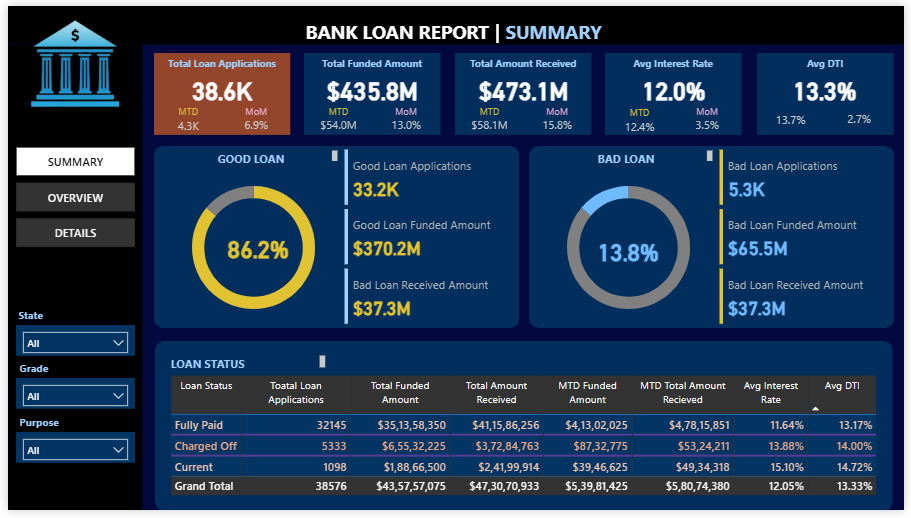

The page's visual inventory and layout, read from the dashboard file:
{"tool":"powerbi","page":{"name":"SUMMARY","canvas":[1280,720],"ordinal":0},"visuals":[{"type":"shape","box":[0,0,1279.7,55.2],"z":0},{"type":"shape","box":[208.6,67,194.7,117.3],"z":0,"group":"g2"},{"type":"shape","box":[423.7,67,195.3,117.3],"z":0,"group":"g3"},{"type":"shape","box":[639.2,67,195.3,117.3],"z":0,"group":"g4"},{"type":"shape","box":[853.6,67,195.3,117.3],"z":0,"group":"g5"},{"type":"shape","box":[1069,67,195.3,117.3],"z":0,"group":"g6"},{"type":"shape","box":[744.2,199.6,521.8,260],"z":0,"group":"g7"},{"type":"shape","box":[0,55.2,192,664.8],"z":1000},{"type":"card","fields":{"Values":["bank_loan_data.Total Amount Received"]},"box":[638.5,95.6,195.7,47.1],"z":1000,"group":"g4"},{"type":"card","fields":{"Values":["bank_loan_data.Avg DTI"]},"box":[1068,95.6,196,47],"z":1000,"group":"g6"},{"type":"card","fields":{"Values":["bank_loan_data.Avg Interest Rate"]},"box":[853,95.8,196,47],"z":1000,"group":"g5"},{"type":"card","fields":{"Values":["bank_loan_data.Toatal Loan Applications"]},"box":[208.3,96,194.3,46.7],"z":1000,"group":"g2"},{"type":"card","fields":{"Values":["bank_loan_data.Total Funded Amount"]},"box":[423.4,96,195,46.7],"z":1000,"group":"g3"},{"type":"group","id":"g1","title":"Group 2","box":[761.5,199.6,503.3,260],"z":1000,"group":"g7"},{"type":"textbox","box":[208.6,67,194,32],"z":2000,"group":"g2"},{"type":"textbox","box":[423.7,67,194.7,32],"z":2000,"group":"g3"},{"type":"textbox","box":[639.2,67,194.7,32],"z":2000,"group":"g4"},{"type":"textbox","box":[853.6,67,194.7,32],"z":2000,"group":"g5"},{"type":"textbox","box":[1069,67,194.7,32],"z":2000,"group":"g6"},{"type":"shape","box":[209.1,200,522.2,260],"z":2000,"group":"g8"},{"type":"card","fields":{"Values":["bank_loan_data.Bad Loan %"]},"box":[819.8,325.4,131.7,48.3],"z":2000,"group":"g7"},{"type":"shape","box":[210,478,1054,242],"z":2000},{"type":"textbox","box":[420,12.9,438.6,54.3],"z":3000},{"type":"card","title":"MTD","fields":{"Values":["bank_loan_data.MTD Funded Amount"]},"box":[423,141.2,98.8,42.9],"z":3000,"group":"g3"},{"type":"card","title":"MTD","fields":{"Values":["bank_loan_data.MTD Total Amount Recieved"]},"box":[638.5,141.2,98.8,42.9],"z":3000,"group":"g4"},{"type":"card","title":"MTD","fields":{"Values":["bank_loan_data.MTD Loan Applications"]},"box":[208.3,141.7,98.2,42.4],"z":3000,"group":"g2"},{"type":"card","title":"MTD","fields":{"Values":["bank_loan_data.MTD Avg Interest Rate"]},"box":[852.9,142,99.2,43.3],"z":3000,"group":"g5"},{"type":"card","title":"MTD","fields":{"Values":["bank_loan_data.MTD Avg DTI"]},"box":[1068.3,142,99.2,43.3],"z":3000,"group":"g6"},{"type":"card","fields":{"Values":["bank_loan_data.Good Loan %"]},"box":[291.9,321.1,131.7,48.3],"z":3000,"group":"g8"},{"type":"group","id":"g2","title":"Group 1","box":[208.3,67,195.3,117.6],"z":4000},{"type":"card","title":"MoM","fields":{"Values":["bank_loan_data.MoM Total Funded Amount"]},"box":[520.6,141.2,98,42.9],"z":4000,"group":"g3"},{"type":"card","title":"MoM","fields":{"Values":["bank_loan_data.MoM Total Amount Received"]},"box":[736.1,141.2,98,42.9],"z":4000,"group":"g4"},{"type":"card","title":"MoM","fields":{"Values":["bank_loan_data.MoM Avg Int Rate"]},"box":[950.5,141.2,98,42.9],"z":4000,"group":"g5"},{"type":"card","title":"MoM","fields":{"Values":["bank_loan_data.MoM Avg DTI"]},"box":[1165.9,141.2,98,42.9],"z":4000,"group":"g6"},{"type":"card","title":"MoM","fields":{"Values":["bank_loan_data.MoM Loan Application"]},"box":[305.4,141.7,98.2,42.9],"z":4000,"group":"g2"},{"type":"textbox","box":[226.9,200.8,250,28.3],"z":4000,"group":"g9"},{"type":"textbox","box":[761.5,201,250,28.3],"z":4000,"group":"g1"},{"type":"textbox","box":[227.1,494.3,231.4,28.6],"z":5000},{"type":"group","id":"g3","title":"Group 1","box":[423,67,196,117.3],"z":6000},{"type":"group","id":"g4","title":"Group 1","box":[638.5,67,195,116.7],"z":7000},{"type":"group","id":"g5","title":"Group 1","box":[852.9,67,196.1,118.3],"z":8000},{"type":"group","id":"g6","title":"Group 1","box":[1068,67,196.4,118.3],"z":9000},{"type":"group","id":"g7","title":"Group 3","box":[744.2,199.6,521.8,260],"z":10000},{"type":"group","id":"g8","title":"Group 4","box":[209.1,199.4,522.2,260.6],"z":11000},{"type":"donutChart","fields":{"Category":["bank_loan_data.Good vs Bad Loan"],"Y":["bank_loan_data.Toatal Loan Applications"]},"box":[226.9,229.9,250,230],"z":12000,"group":"g9"},{"type":"donutChart","fields":{"Category":["bank_loan_data.Good vs Bad Loan"],"Y":["bank_loan_data.Toatal Loan Applications"]},"box":[761.5,230.1,250,230],"z":12000,"group":"g1"},{"type":"tableEx","fields":{"Values":["bank_loan_data.loan_status","bank_loan_data.Toatal Loan Applications","bank_loan_data.Total Funded Amount","bank_loan_data.Total Amount Received","bank_loan_data.MTD Funded Amount","bank_loan_data.MTD Total Amount Recieved","bank_loan_data.Avg Interest Rate","bank_loan_data.Avg DTI"]},"box":[227.1,522.9,1021.4,185.7],"z":12000},{"type":"cardVisual","fields":{"Data":["bank_loan_data.Good Loan Applications","bank_loan_data.Good Loan Funded Amount","bank_loan_data.Good Loan Received Amount"]},"box":[476.9,199.4,252.9,260],"z":13000,"group":"g9"},{"type":"cardVisual","fields":{"Data":["bank_loan_data.Bad Loan Applications","bank_loan_data.Bad Loan Funded Amount","bank_loan_data.Bad Loan Received Amount"]},"box":[1011.5,199.6,252.9,260],"z":13000,"group":"g1"},{"type":"slicer","fields":{"Values":["bank_loan_data.address_state"]},"box":[11,456,170,44],"z":13000},{"type":"group","id":"g9","title":"Group 2","box":[226.9,199.4,503.3,260],"z":13001,"group":"g8"},{"type":"textbox","box":[10.6,425.6,83,39],"z":14000},{"type":"slicer","fields":{"Values":["bank_loan_data.grade"]},"box":[11.4,532.1,170,44.4],"z":15000},{"type":"textbox","box":[11,502,85.6,38.9],"z":16000},{"type":"slicer","fields":{"Values":["bank_loan_data.purpose"]},"box":[11.4,609.3,170,44.4],"z":17000},{"type":"textbox","box":[11,578,86,39],"z":18000},{"type":"image","box":[0,0,191.7,156.7],"z":19000},{"type":"pageNavigator","box":[11.7,201.7,170,143.3],"z":20000}]}

Visuals, with their boxes in screenshot pixels (x1, y1, x2, y2), scaled from the page's 1280x720 canvas onto the 911x518 screenshot:
shape: [0,0,910,40]
shape: [148,48,287,133]
shape: [302,48,441,133]
shape: [455,48,594,133]
shape: [608,48,747,133]
shape: [761,48,900,133]
shape: [530,144,901,331]
shape: [0,40,137,517]
card - bank_loan_data.Total Amount Received: [454,69,594,103]
card - bank_loan_data.Avg DTI: [760,69,900,103]
card - bank_loan_data.Avg Interest Rate: [607,69,747,103]
card - bank_loan_data.Toatal Loan Applications: [148,69,287,103]
card - bank_loan_data.Total Funded Amount: [301,69,440,103]
"Group 2" group: [542,144,900,331]
textbox: [148,48,287,71]
textbox: [302,48,440,71]
textbox: [455,48,594,71]
textbox: [608,48,746,71]
textbox: [761,48,899,71]
shape: [149,144,520,331]
card - bank_loan_data.Bad Loan %: [583,234,677,269]
shape: [149,344,900,517]
textbox: [299,9,611,48]
"MTD" card: [301,102,371,132]
"MTD" card: [454,102,525,132]
"MTD" card: [148,102,218,132]
"MTD" card: [607,102,678,133]
"MTD" card: [760,102,831,133]
card - bank_loan_data.Good Loan %: [208,231,301,266]
"Group 1" group: [148,48,287,133]
"MoM" card: [371,102,440,132]
"MoM" card: [524,102,594,132]
"MoM" card: [676,102,746,132]
"MoM" card: [830,102,900,132]
"MoM" card: [217,102,287,133]
textbox: [161,144,339,165]
textbox: [542,145,720,165]
textbox: [162,356,326,376]
"Group 1" group: [301,48,441,133]
"Group 1" group: [454,48,593,132]
"Group 1" group: [607,48,747,133]
"Group 1" group: [760,48,900,133]
"Group 3" group: [530,144,901,331]
"Group 4" group: [149,143,520,331]
donutChart - bank_loan_data.Good vs Bad Loan x bank_loan_data.Toatal Loan Applications: [161,165,339,331]
donutChart - bank_loan_data.Good vs Bad Loan x bank_loan_data.Toatal Loan Applications: [542,166,720,331]
tableEx - bank_loan_data.loan_status x bank_loan_data.Toatal Loan Applications: [162,376,889,510]
cardVisual - bank_loan_data.Good Loan Applications x bank_loan_data.Good Loan Funded Amount: [339,143,519,331]
cardVisual - bank_loan_data.Bad Loan Applications x bank_loan_data.Bad Loan Funded Amount: [720,144,900,331]
slicer - bank_loan_data.address_state: [8,328,129,360]
"Group 2" group: [161,143,520,331]
textbox: [8,306,67,334]
slicer - bank_loan_data.grade: [8,383,129,415]
textbox: [8,361,69,389]
slicer - bank_loan_data.purpose: [8,438,129,470]
textbox: [8,416,69,444]
image: [0,0,136,113]
pageNavigator: [8,145,129,248]
